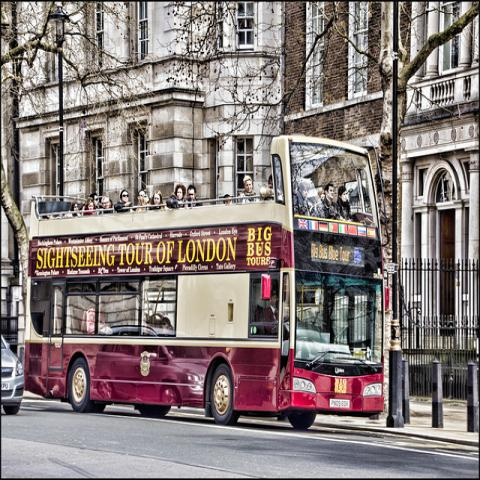bus: (26, 137, 388, 431)
car: (1, 333, 25, 416)
